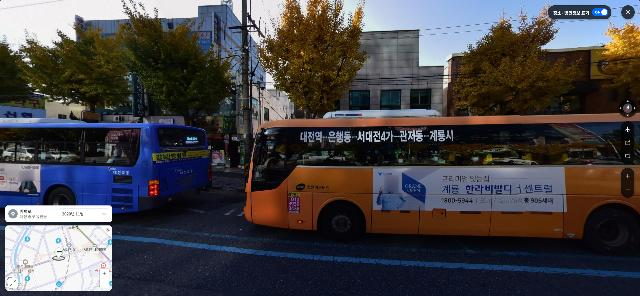ginkgo: (442, 1, 580, 116), (251, 0, 369, 119), (596, 14, 640, 102)
other: (125, 1, 241, 171), (15, 13, 135, 116)
